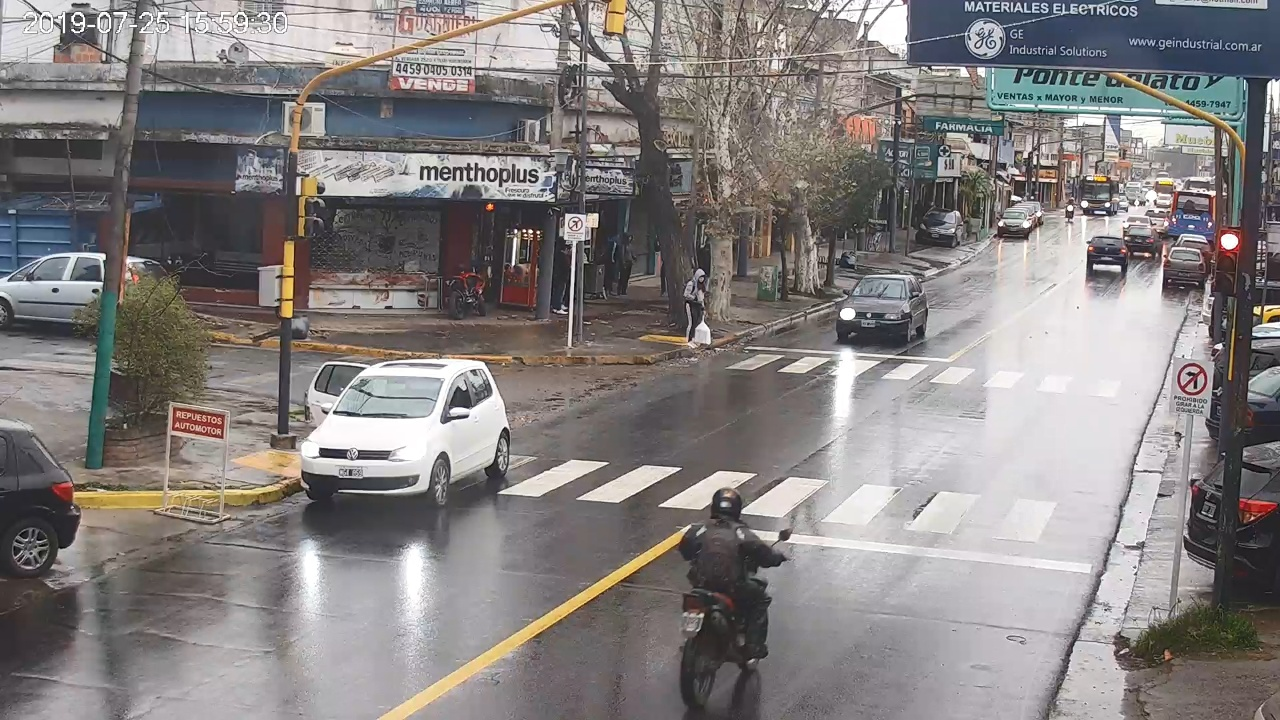front car: (301, 359, 511, 504), (836, 275, 929, 343)
motorcycle: (677, 526, 793, 709)
traffic light: (1218, 230, 1239, 292)
